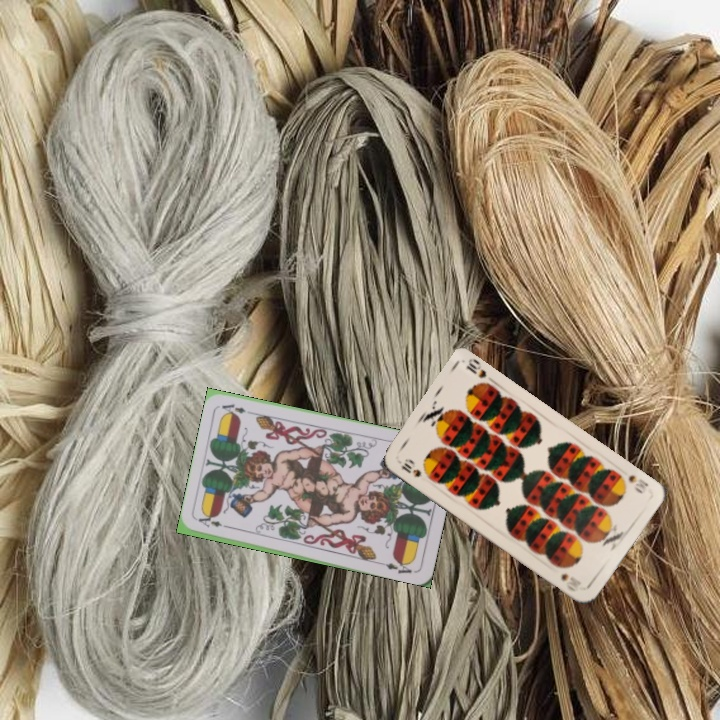EA: (194, 514, 234, 531)
S10: (396, 456, 431, 481), (624, 471, 651, 496)
